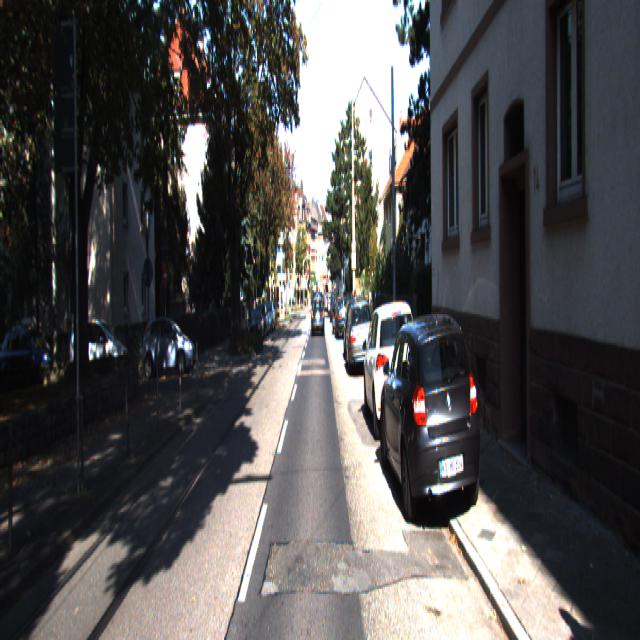Car: (380, 304, 488, 536), (362, 294, 420, 443), (68, 320, 131, 388), (141, 317, 197, 384), (0, 328, 52, 394), (345, 298, 375, 378), (335, 305, 351, 349), (311, 296, 325, 337)
